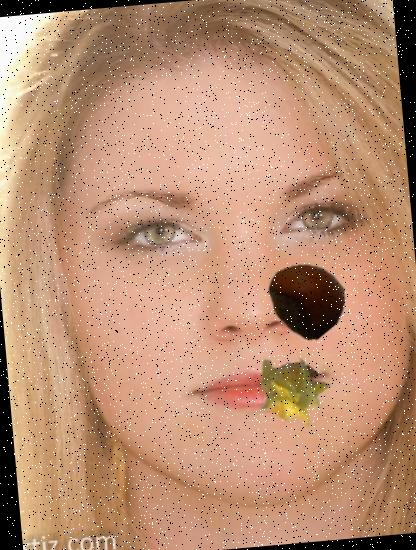Nut: (265, 255, 351, 341)
Physalis: (246, 348, 332, 434)
